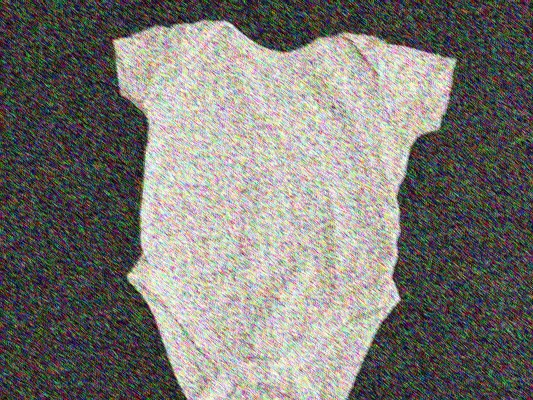Body: (97, 11, 457, 396)
